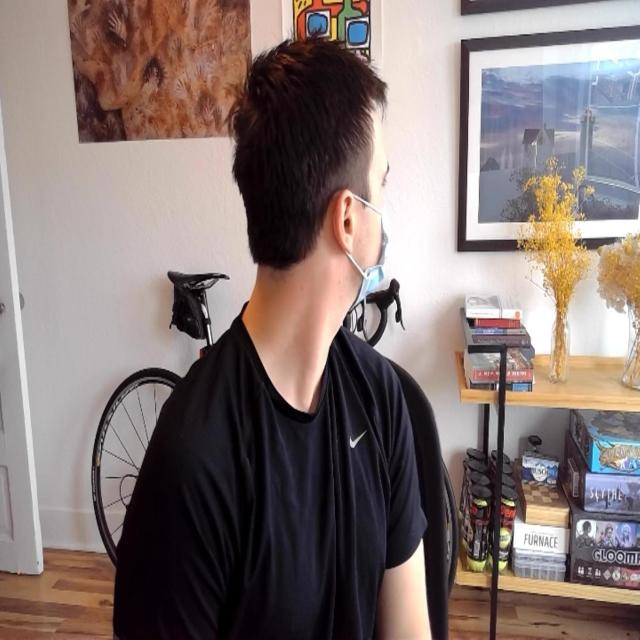Mask: (345, 104, 396, 311)
